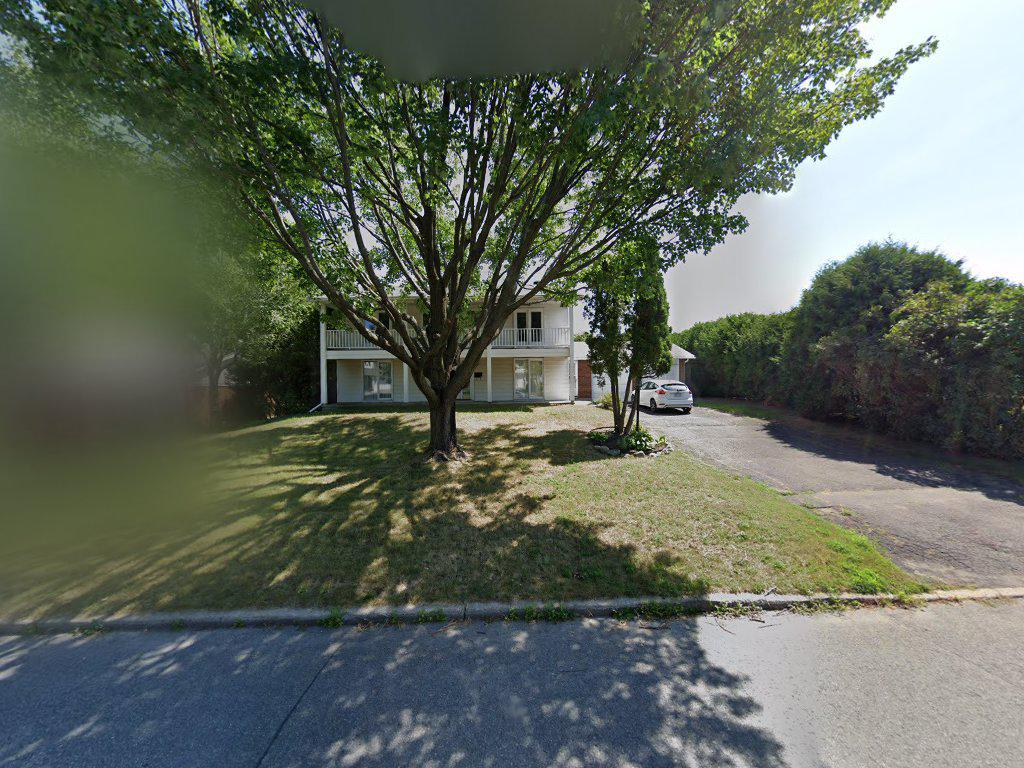trunk: (397, 278, 479, 465), (603, 368, 658, 450)
